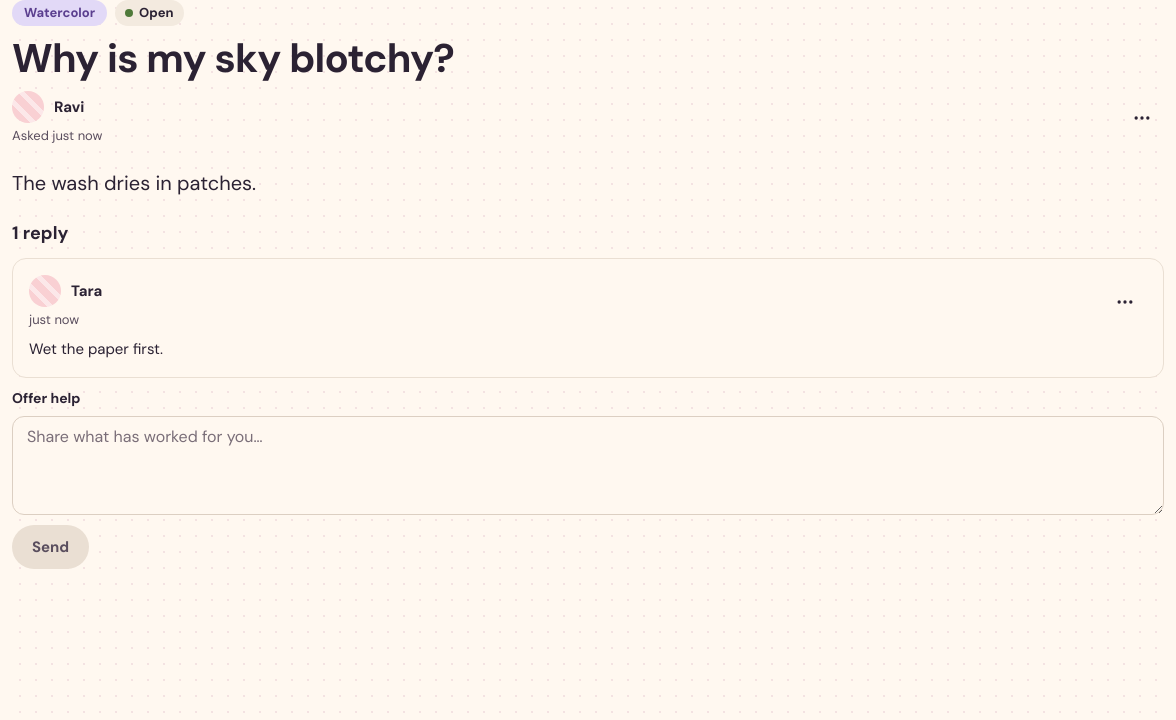
Scenario: HelpRequestView › shows the request to a helper, who can offer help and report it
This screenshot has width=1176, height=720.
Check: the heading "Why is my sky blotchy?" is shown, box [12,32,454,84]
Check: the text "Open" is shown, box [115,0,184,26]
In the text box labelled "Offer help": (588, 466) [12,416,1164,515], type "Try a flat brush."
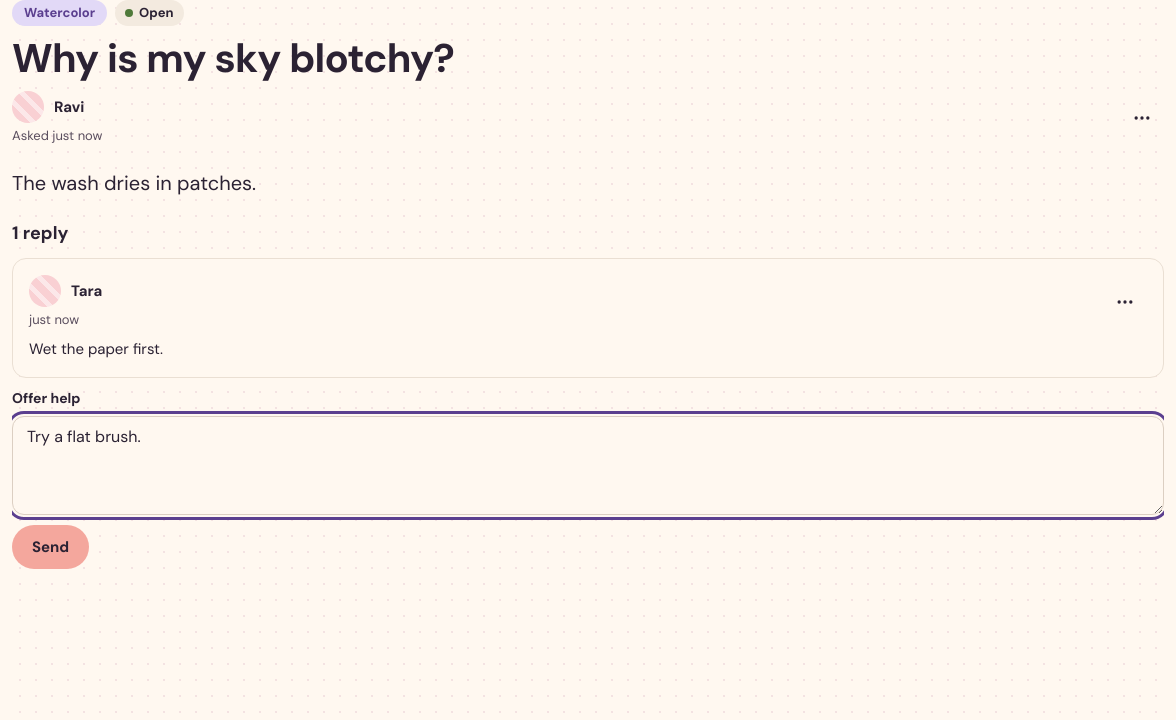
Click the button "Send": (51, 547) [12,525,89,569]
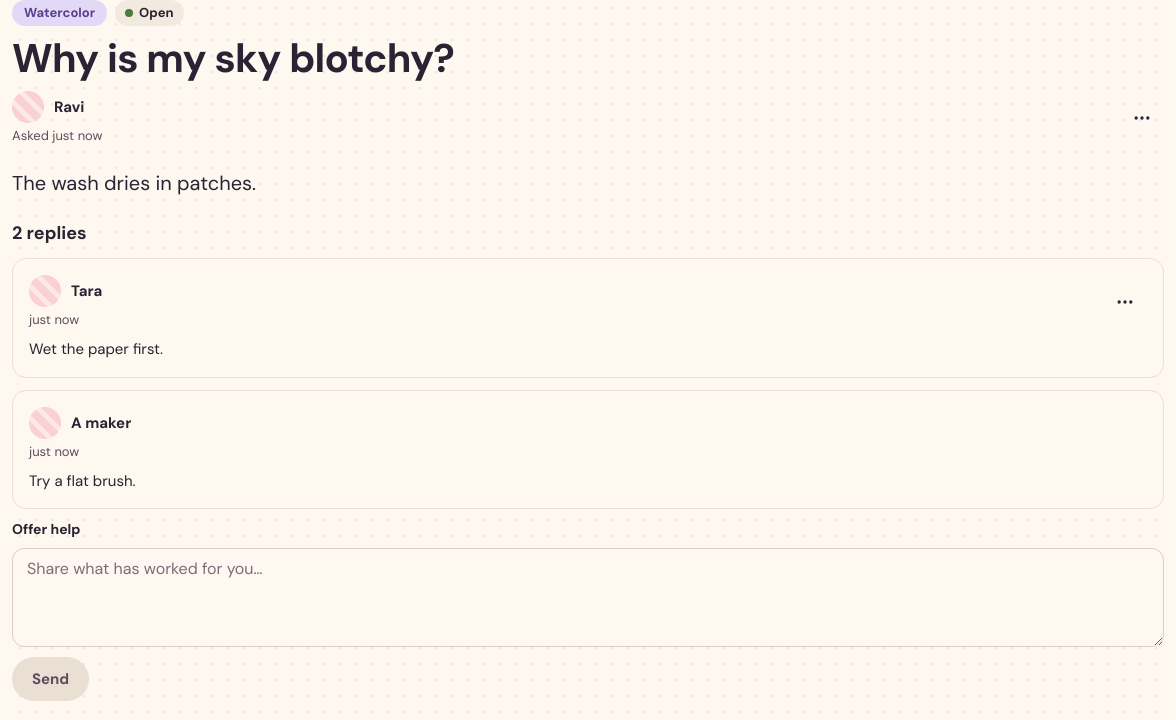
Check: the text "Try a flat brush." is shown, box [29,471,136,491]
Check: the text box labelled "Offer help" is empty, box [12,548,1164,647]
Check: the heading "2 replies" is shown, box [12,221,87,245]
